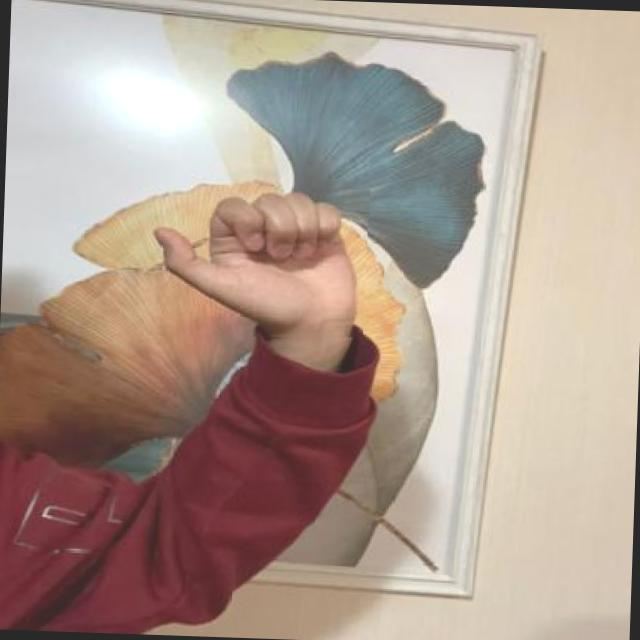E: (143, 182, 370, 342)
